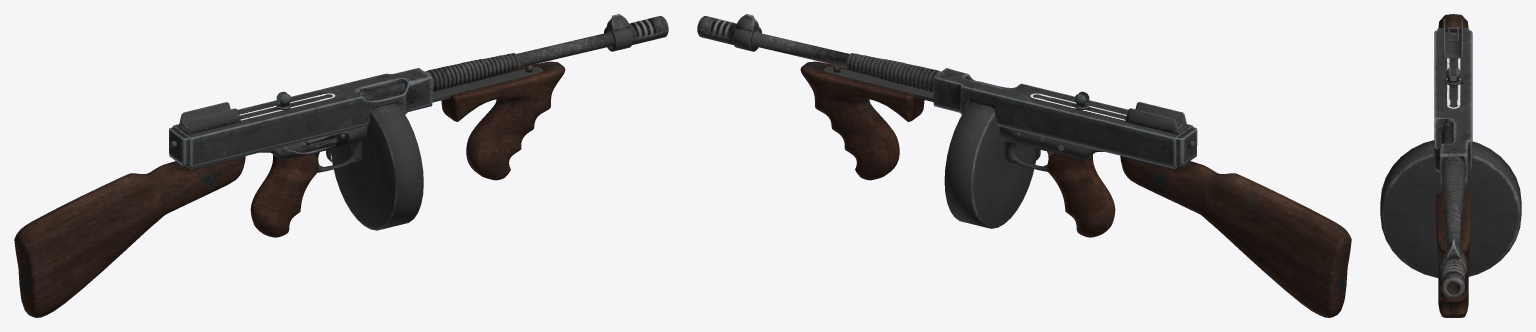
Rendered from thompson.glb.
3 views of the same model, side by side, from view 1: azimuth 30°, elevation 25°; view 2: azimuth 150°, elevation 25°; view 3: azimuth 270°, elevation 25° (orthographic). The views are drawn at different scales.
Visible parts, largest first — view 1: Plane.001, Plane.006, Cylinder.003_Cylinder.004, Plane.003, Cylinder, Plane, Plane.004, Plane.005, Cylinder.006_Cylinder.007, Cube; view 2: Plane.001, Plane.006, Cylinder.003_Cylinder.004, Plane.003, Cylinder, Plane, Plane.004, Plane.005, Cube; view 3: Cylinder.003_Cylinder.004, Plane.006, Cylinder, Plane.003, Plane.005, Plane.001, Cylinder.002_Cylinder.003, Cylinder.006_Cylinder.007.
Part boxes in pixels (<box>): Plane.001: <box>14,156,245,317</box>; Plane.006: <box>169,68,432,168</box>; Cylinder.003_Cylinder.004: <box>331,103,423,230</box>; Plane.003: <box>441,61,565,180</box>; Cylinder: <box>425,14,668,91</box>; Plane: <box>250,154,318,237</box>; Plane.004: <box>246,126,367,172</box>; Plane.005: <box>178,102,240,134</box>; Cylinder.006_Cylinder.007: <box>283,82,404,154</box>; Cube: <box>432,67,542,102</box>; Plane.001: <box>1120,155,1351,317</box>; Plane.006: <box>933,68,1197,168</box>; Cylinder.003_Cylinder.004: <box>944,103,1035,228</box>; Plane.003: <box>800,61,924,180</box>; Cylinder: <box>697,14,940,91</box>; Plane: <box>1047,153,1115,237</box>; Plane.004: <box>999,126,1104,171</box>; Plane.005: <box>1125,102,1187,134</box>; Cube: <box>824,66,933,101</box>; Cylinder.003_Cylinder.004: <box>1380,140,1521,277</box>; Plane.006: <box>1434,28,1472,185</box>; Cylinder: <box>1440,155,1466,298</box>; Plane.003: <box>1436,192,1470,317</box>; Plane.005: <box>1443,19,1462,58</box>; Plane.001: <box>1438,14,1468,28</box>; Cylinder.002_Cylinder.003: <box>1446,67,1461,85</box>; Cylinder.006_Cylinder.007: <box>1442,123,1451,143</box>.
Size of the model in its own units: 2 by 0.4842 by 0.3632.
12 materials, 12 textured.
